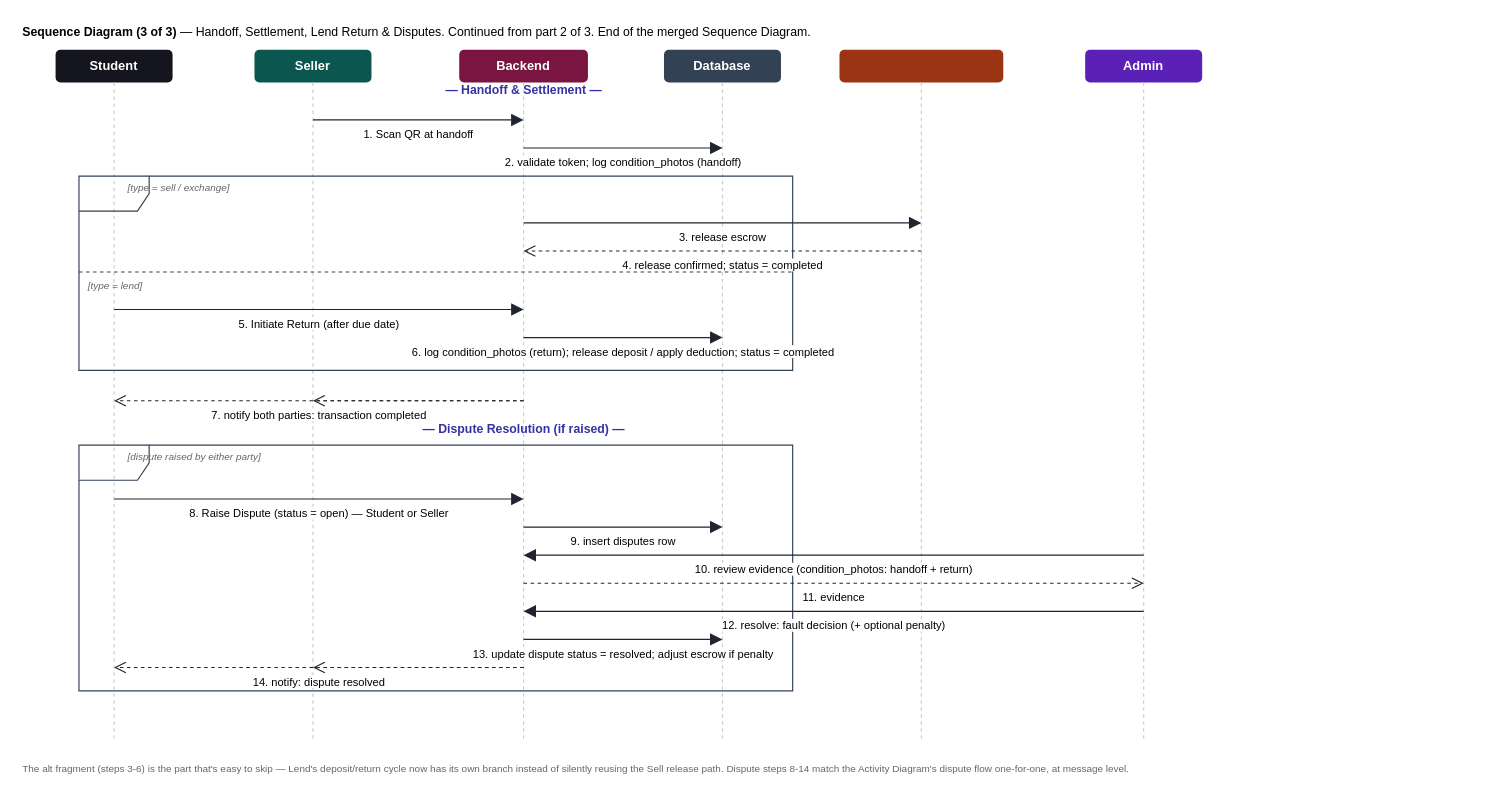
Some shapes in this 1502 by 804 pixel diagram are drawn without their labels. Each missing label, with the box of its shape:
alt: (78, 175, 793, 370)
opt: (78, 444, 793, 691)
Payment Gateway: (839, 49, 1003, 82)
